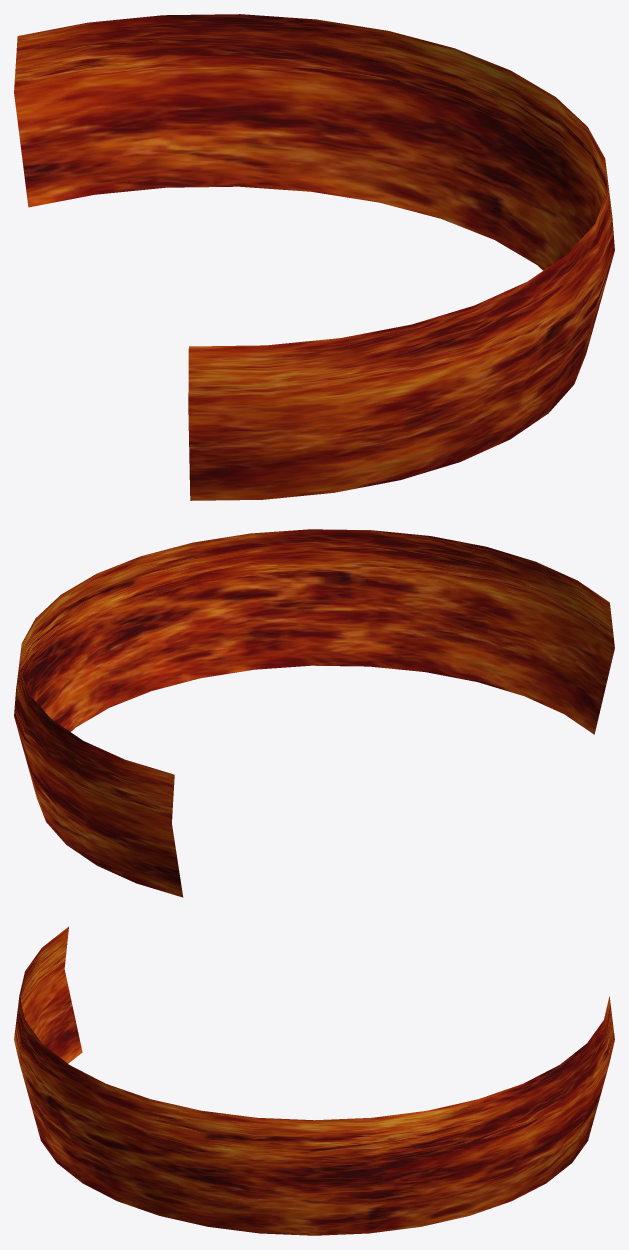
Rendered from 0268_daiouqixisi_circle01.glb.
3 renders of one model, top to bottom at view 1: azimuth 30°, elevation 25°; view 2: azimuth 150°, elevation 25°; view 3: azimuth 270°, elevation 25°, orthographic. The views are drawn at different scales.
Bounding box in the file's own units: 1.71 × 0.4945 × 2.2.
Materials: 1 (1 with a texture image).
